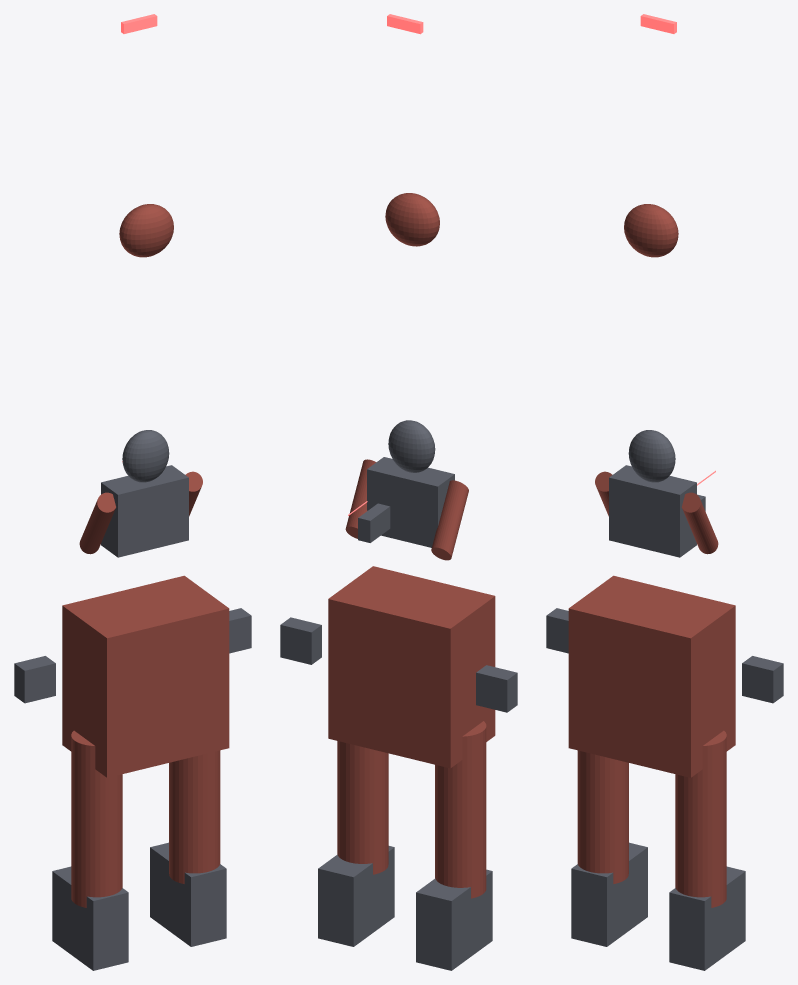
Rendered from SU_MasterEngineer_LOD2.glb.
The picture shows the model from 3 angles, left to right: view 1: azimuth 30°, elevation 25°; view 2: azimuth 150°, elevation 25°; view 3: azimuth 330°, elevation 25°; orthographic projection.
Parts seen in each view (by area): view 1: Cube.004, Cylinder, Cylinder.001, Cube.005, Cube, Cube.001, Sphere.001, Sphere, Cube.002, Cylinder.002, Cube.003; view 2: Cube.004, Cylinder, Cylinder.001, Cube, Cube.001, Cube.005, Sphere.001, Sphere, Cube.002, Cube.003, Cylinder.002, Cube.007 (+1 smaller); view 3: Cube.004, Cylinder.001, Cylinder, Cube.005, Cube.001, Cube, Sphere.001, Sphere, Cube.003, Cylinder.003, Cube.002.
Boxes of the visible parts, x1,y1,x2,y2 form: Cube.004: (62,575,229,777); Cylinder: (71,730,122,907); Cylinder.001: (169,750,220,883); Cube.005: (101,465,188,557); Cube: (52,866,128,970); Cube.001: (150,842,226,946); Sphere.001: (119,204,173,257); Sphere: (122,430,169,482); Cube.002: (14,656,55,703); Cylinder.002: (79,492,116,554); Cube.003: (229,608,251,653); Cube.004: (328,566,495,768); Cylinder: (435,721,486,898); Cylinder.001: (337,741,388,874); Cube: (416,869,492,970); Cube.001: (318,846,394,946); Cube.005: (367,457,454,547); Sphere.001: (385,193,439,246); Sphere: (388,420,435,472); Cube.002: (476,665,517,712); Cube.003: (280,617,321,664); Cylinder.002: (431,480,468,560); Cube.007: (358,503,390,542); Cube.004: (568,575,735,777); Cylinder.001: (675,730,726,907); Cylinder: (577,750,628,883); Cube.005: (609,465,696,557); Cube.001: (669,866,745,970); Cube: (571,842,647,946); Sphere.001: (624,204,678,257); Sphere: (628,430,675,482); Cube.003: (742,656,783,703); Cylinder.003: (681,492,718,554); Cube.002: (546,608,568,653).
Size of what is drawn, in the model's own units: 1.02 by 3.96 by 0.5127.
